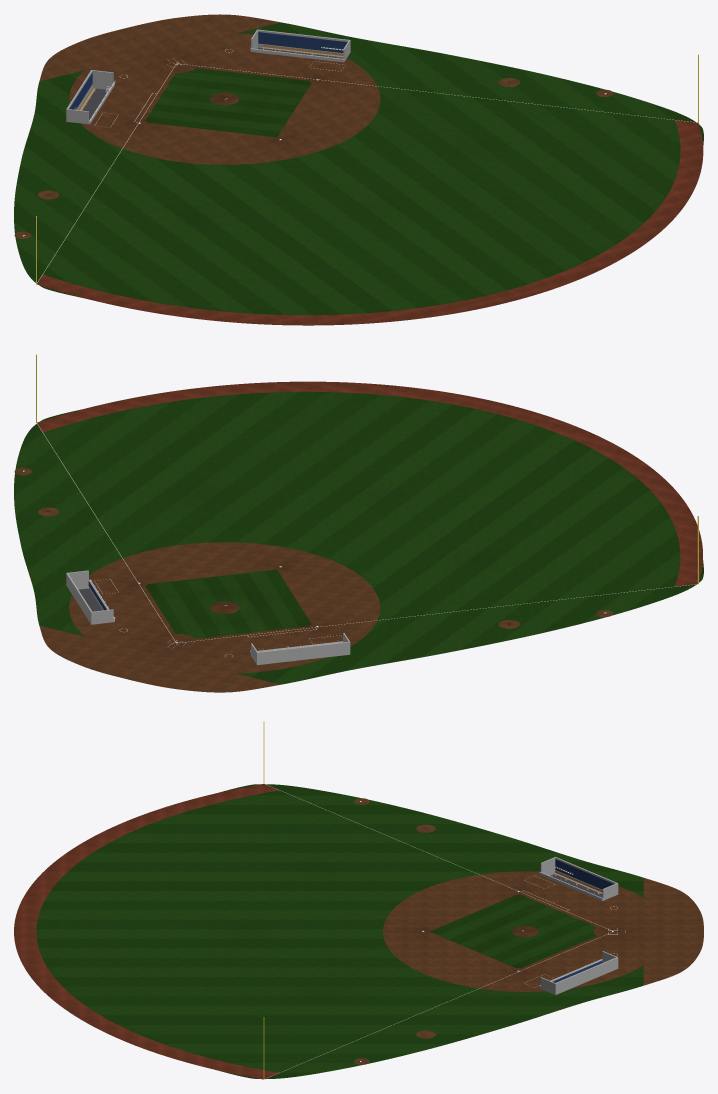
Rendered from field.glb.
3 renders of one model, top to bottom at view 1: azimuth 30°, elevation 25°; view 2: azimuth 150°, elevation 25°; view 3: azimuth 270°, elevation 25°, orthographic. The views are drawn at different scales.
Visible parts, largest first — view 1: Grass_Outfield, Dirt, WarningTrack, Grass_Infield, Dugout_3B_Padding, Dugout_1B, Dirt_Cutouts, Dugout_3B, Chalk; view 2: Grass_Outfield, Dirt, WarningTrack, Grass_Infield, Dugout_1B, Dugout_3B, Dirt_Cutouts, Chalk; view 3: Grass_Outfield, Dirt, WarningTrack, Grass_Infield, Dugout_3B, Dugout_1B, Dirt_Cutouts, Chalk, Dugout_1B_Padding.
Boxes of the visible parts, <box> form: Grass_Outfield: <box>14,22,703,325</box>; Dirt: <box>39,14,380,164</box>; WarningTrack: <box>37,120,703,325</box>; Grass_Infield: <box>145,68,311,136</box>; Dugout_3B_Padding: <box>258,32,347,52</box>; Dugout_1B: <box>66,70,114,124</box>; Dirt_Cutouts: <box>131,55,325,143</box>; Dugout_3B: <box>250,29,350,62</box>; Chalk: <box>37,49,696,283</box>; Grass_Outfield: <box>14,391,703,692</box>; Dirt: <box>39,542,380,692</box>; WarningTrack: <box>37,381,702,586</box>; Grass_Infield: <box>145,570,311,638</box>; Dugout_1B: <box>250,633,350,665</box>; Dugout_3B: <box>66,570,114,624</box>; Dirt_Cutouts: <box>131,563,325,651</box>; Chalk: <box>37,423,697,656</box>; Grass_Outfield: <box>36,784,643,1078</box>; Dirt: <box>383,871,703,991</box>; WarningTrack: <box>14,784,279,1079</box>; Grass_Infield: <box>431,895,596,968</box>; Dugout_3B: <box>539,951,618,994</box>; Dugout_1B: <box>539,857,618,901</box>; Dirt_Cutouts: <box>415,888,632,974</box>; Chalk: <box>264,783,625,1079</box>; Dugout_1B_Padding: <box>555,859,613,889</box>.
Size of the model in its own units: 142 by 15.35 by 140.
Materials: 13 (4 with a texture image).
